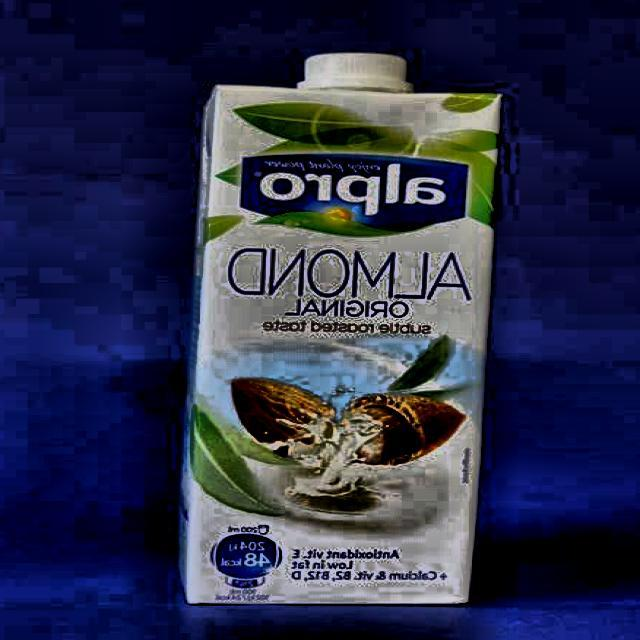cardboard: (176, 53, 504, 605)
